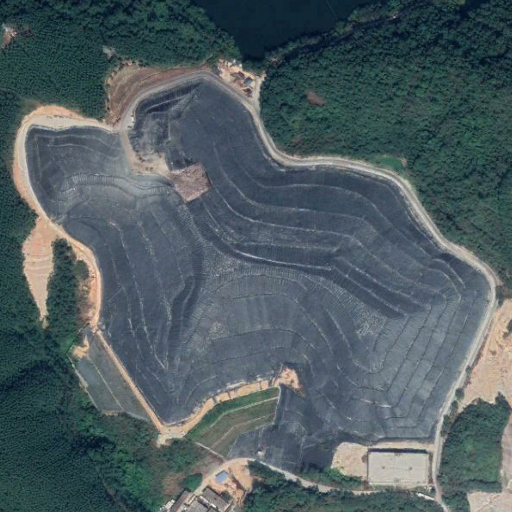lf: (27, 73, 488, 469)
